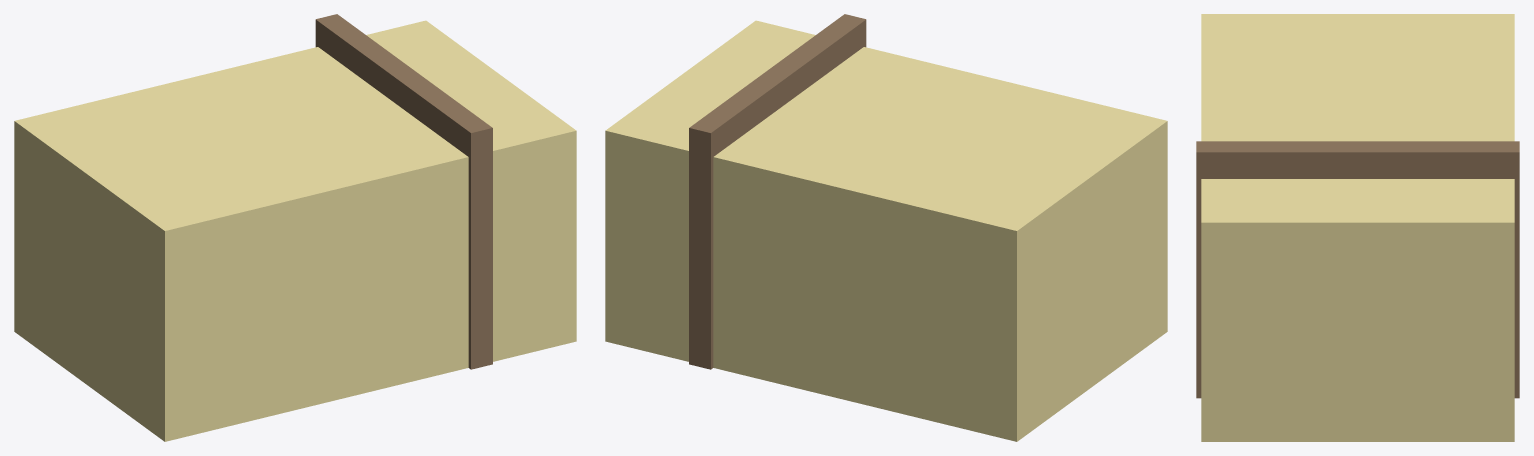
The model's file is Prop_Live_AMF_HayBale_V8.glb.
3 views of the same model, side by side, from view 1: azimuth 30°, elevation 25°; view 2: azimuth 150°, elevation 25°; view 3: azimuth 270°, elevation 25° (orthographic). The views are drawn at different scales.
Parts seen in each view (by area): view 1: Prop_Live_AMF_HayBale_V8; view 2: Prop_Live_AMF_HayBale_V8; view 3: Prop_Live_AMF_HayBale_V8.
Part boxes in pixels (box(x1,y1,x2,y2)): Prop_Live_AMF_HayBale_V8: box(14, 14, 576, 441); Prop_Live_AMF_HayBale_V8: box(605, 14, 1167, 441); Prop_Live_AMF_HayBale_V8: box(1196, 14, 1519, 441).
Bounding box in the file's own units: 0.9472 × 0.52 × 0.62.
